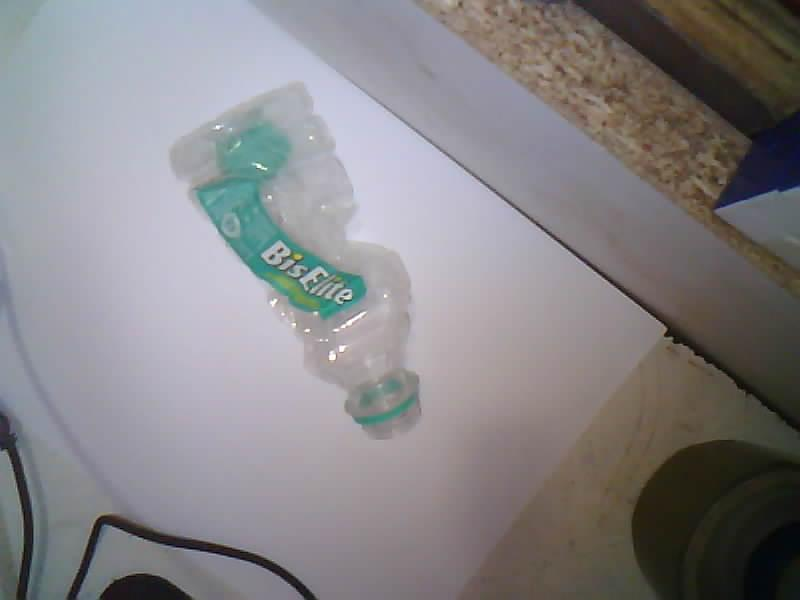non-biodegradable: (171, 83, 420, 438)
